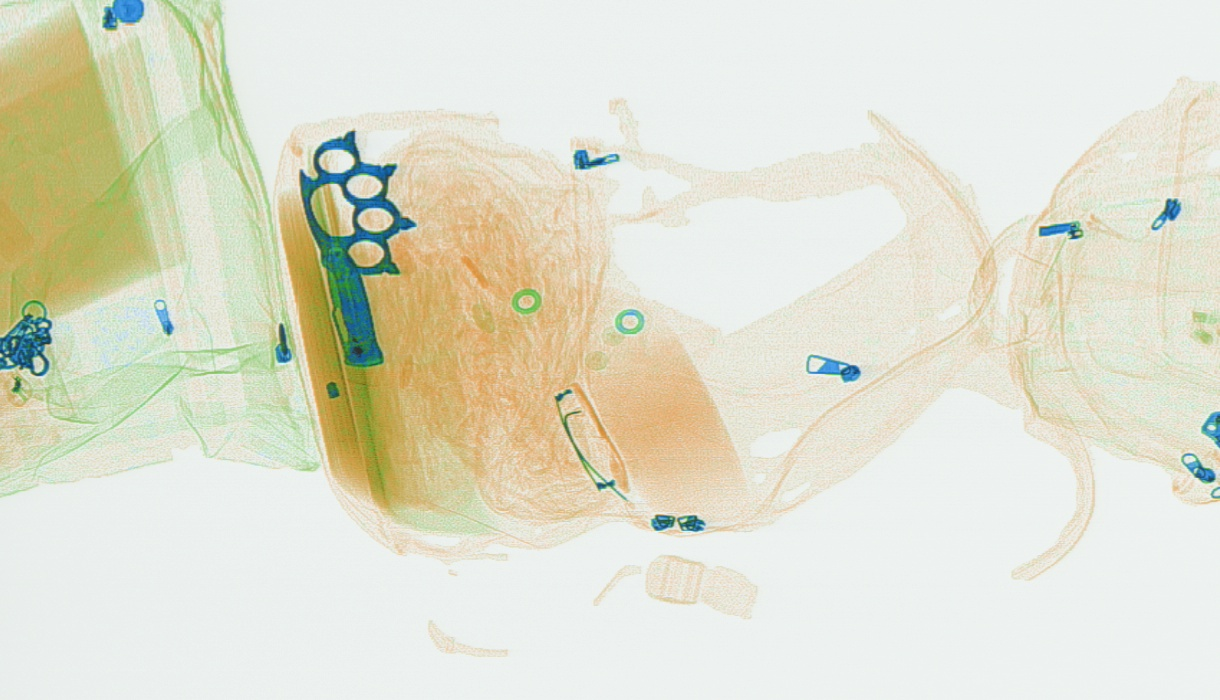knife: (321, 241, 386, 370)
